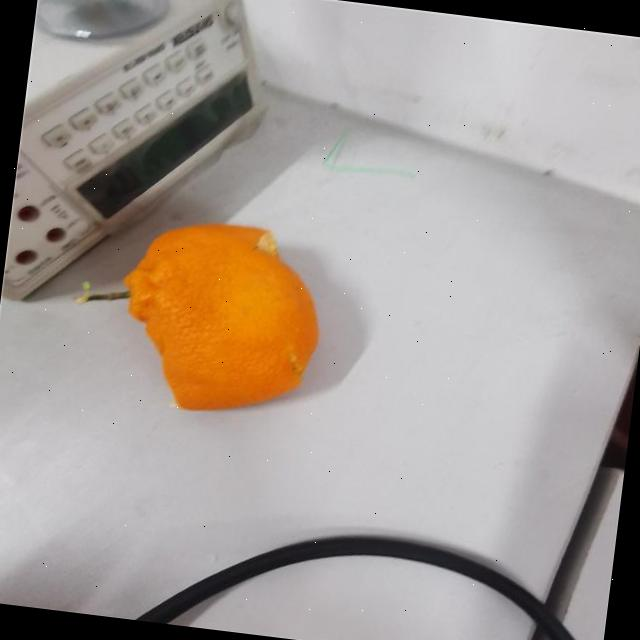orange-peel: (106, 208, 332, 424)
